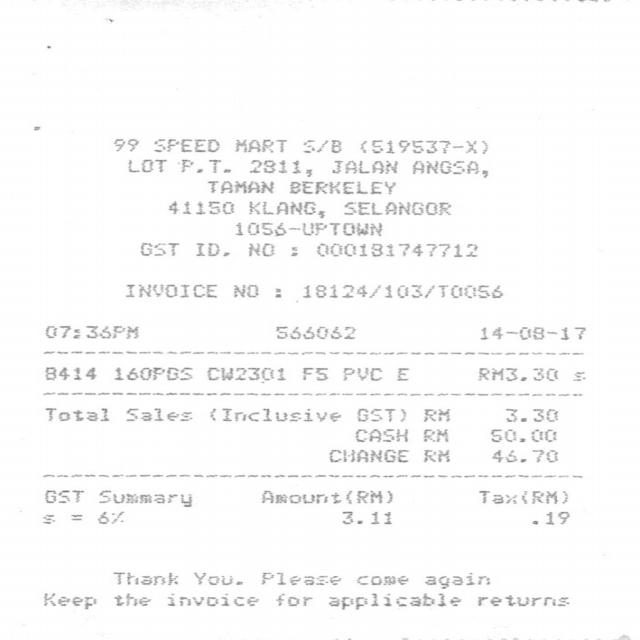text: (302, 284, 501, 297), (316, 242, 475, 256), (234, 221, 382, 235), (327, 593, 459, 608), (96, 488, 190, 506), (208, 407, 338, 420), (358, 140, 486, 152), (341, 201, 449, 214), (287, 180, 393, 193), (478, 326, 584, 339), (477, 489, 568, 504), (44, 324, 138, 338), (166, 592, 256, 606), (412, 160, 486, 177), (248, 201, 323, 217), (124, 283, 216, 296), (248, 158, 310, 176), (327, 448, 406, 462), (476, 594, 567, 606), (422, 572, 488, 588), (477, 366, 557, 379), (275, 325, 354, 338), (259, 489, 338, 502), (261, 571, 339, 584), (115, 366, 191, 379), (206, 366, 282, 379), (43, 592, 95, 609), (205, 179, 272, 192), (152, 138, 218, 151), (330, 160, 396, 173), (166, 200, 232, 213), (490, 449, 556, 461), (110, 572, 176, 584), (44, 408, 108, 420), (126, 408, 190, 420), (233, 138, 284, 152), (339, 510, 389, 524), (504, 408, 555, 421), (179, 158, 228, 171), (356, 407, 404, 420), (354, 429, 406, 441), (44, 367, 94, 379), (191, 572, 240, 584), (347, 490, 390, 503), (302, 138, 340, 152), (126, 158, 165, 171), (138, 242, 177, 255), (274, 592, 310, 606), (530, 511, 567, 524), (342, 367, 382, 379), (355, 575, 406, 584), (44, 490, 81, 502), (112, 593, 149, 605), (490, 429, 523, 441), (195, 243, 227, 255), (248, 242, 274, 256), (422, 408, 448, 421), (420, 449, 448, 461), (112, 137, 137, 150), (95, 511, 122, 523), (232, 283, 256, 296), (302, 366, 326, 379), (421, 429, 447, 441), (530, 429, 554, 441), (395, 366, 407, 380), (573, 371, 584, 382), (43, 513, 54, 524)
